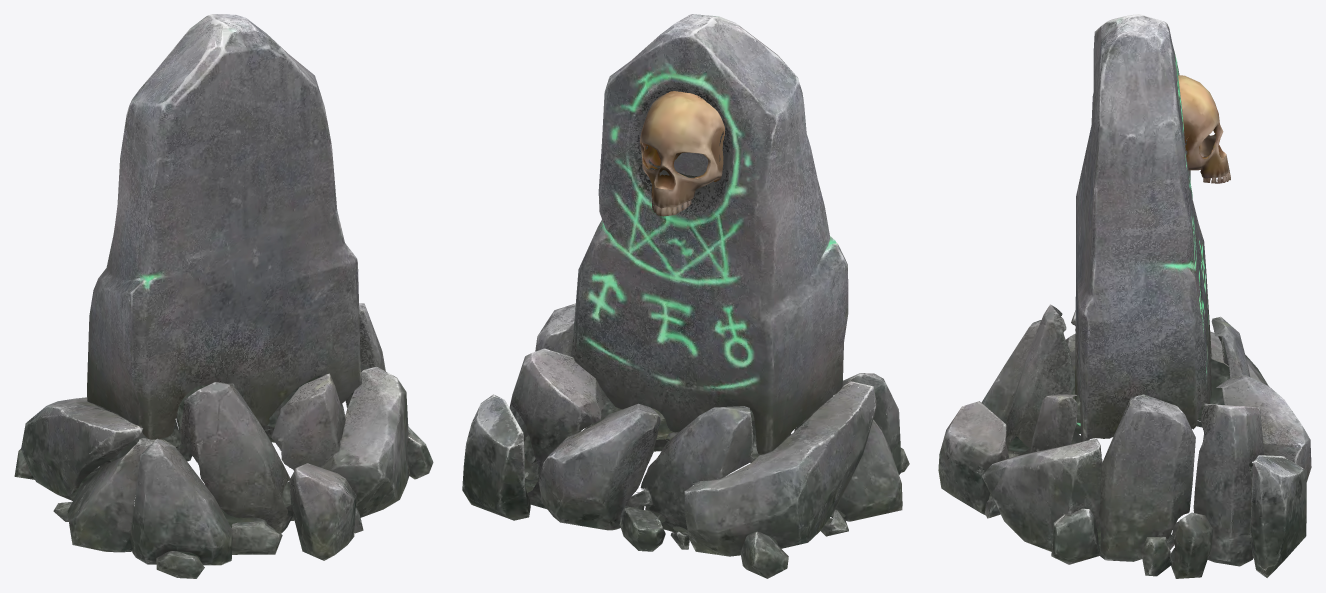
3 renders of one model, left to right at view 1: azimuth 30°, elevation 25°; view 2: azimuth 150°, elevation 25°; view 3: azimuth 270°, elevation 25°, orthographic.
Parts seen in each view (by area): view 1: SM_Necromatic_Seal_Podium_01_LOD0; view 2: SM_Necromatic_Seal_Podium_01_LOD0; view 3: SM_Necromatic_Seal_Podium_01_LOD0.
Boxes of the visible parts, box(x1,y1,x2,y2) form: SM_Necromatic_Seal_Podium_01_LOD0: box(14, 14, 433, 578); SM_Necromatic_Seal_Podium_01_LOD0: box(462, 14, 909, 578); SM_Necromatic_Seal_Podium_01_LOD0: box(938, 14, 1311, 578).
Size of the model in its own units: 0.8495 by 1.11 by 0.7695.
2 materials, 2 textured.
